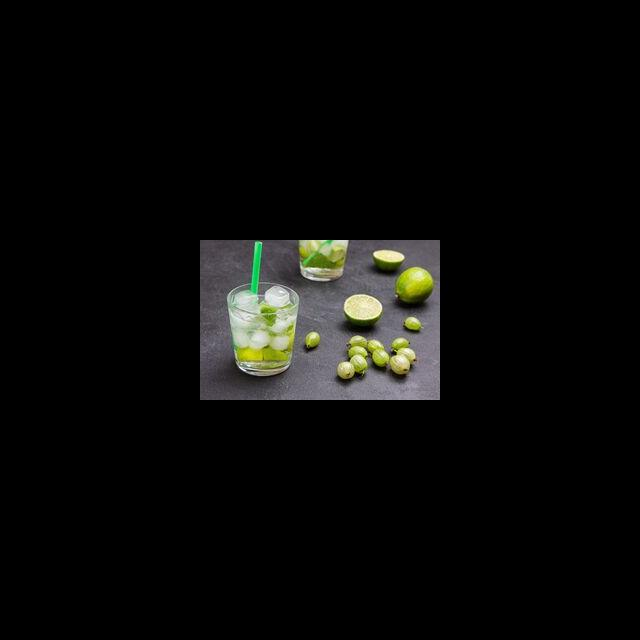lime: (393, 266, 436, 309)
